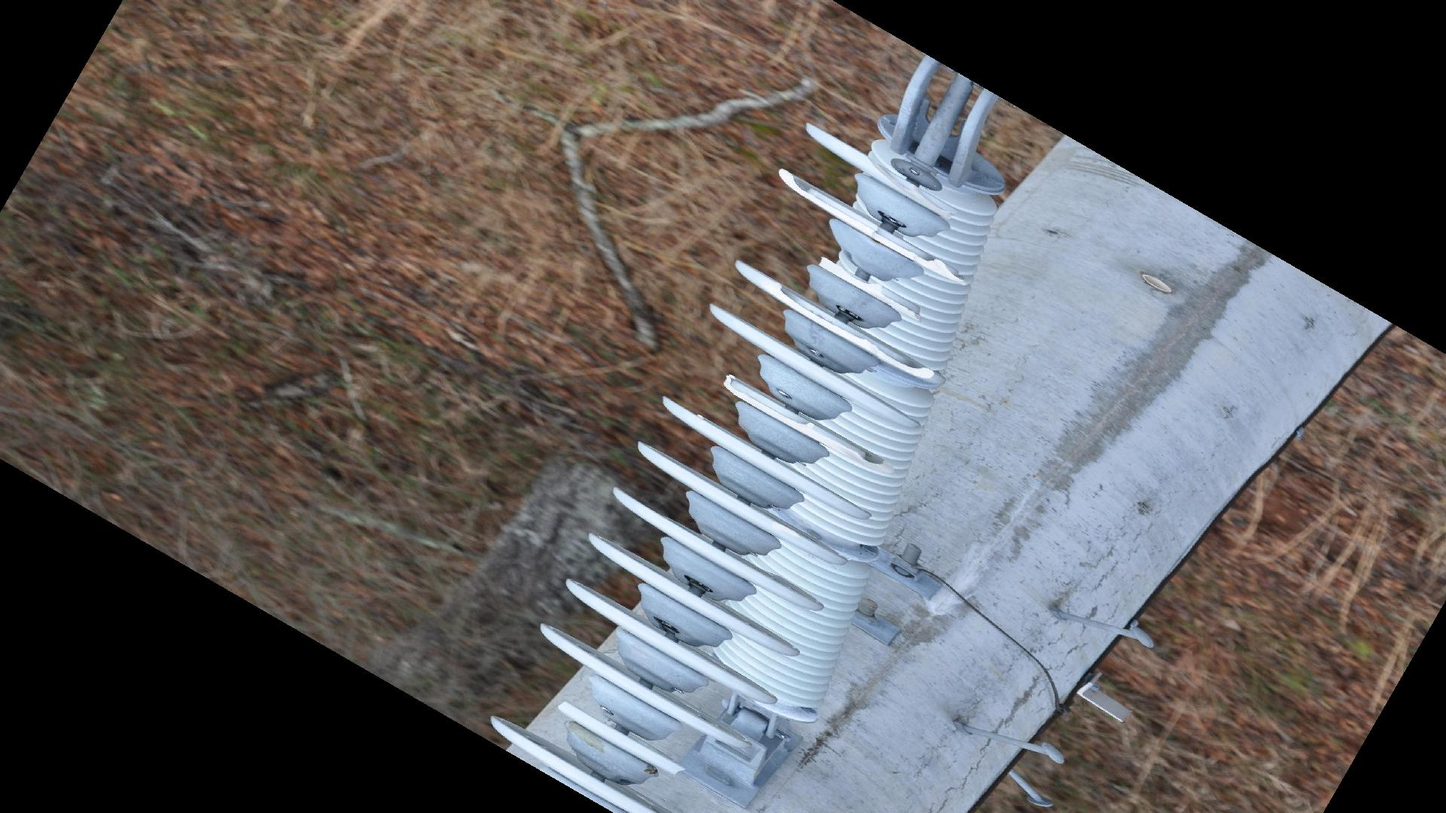insulator: (481, 116, 959, 813), (706, 163, 1002, 717)
insulator_breakage: (775, 166, 974, 290), (718, 369, 894, 477), (764, 276, 938, 385), (552, 696, 690, 785), (858, 151, 963, 227), (814, 254, 926, 324)
